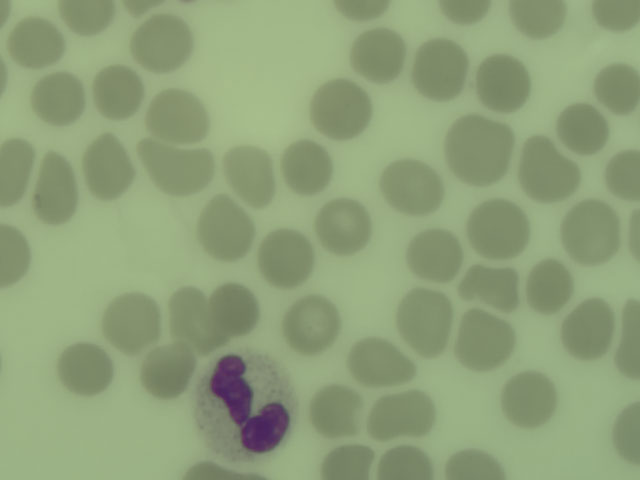RBC: (197, 356, 298, 458)
WBC: (444, 112, 513, 183), (134, 136, 216, 194), (468, 200, 532, 262), (223, 144, 282, 209), (457, 306, 518, 368), (309, 79, 370, 137), (521, 139, 576, 198), (347, 338, 414, 386), (199, 198, 249, 262), (34, 149, 77, 221), (168, 289, 220, 344), (414, 40, 462, 99), (81, 138, 129, 197), (371, 390, 435, 434), (400, 289, 449, 346), (133, 17, 191, 65), (555, 101, 608, 153), (104, 294, 158, 345), (282, 138, 333, 191), (34, 74, 86, 121), (9, 20, 61, 67), (588, 65, 640, 112), (564, 208, 616, 255), (520, 261, 572, 308), (499, 373, 551, 420), (284, 299, 336, 346), (459, 255, 511, 302), (412, 229, 464, 276), (477, 58, 529, 105), (381, 161, 433, 208), (351, 27, 403, 74), (320, 201, 372, 248), (59, 346, 111, 393), (142, 345, 194, 392), (211, 284, 263, 331), (258, 231, 310, 278), (149, 91, 201, 138), (564, 303, 616, 350), (90, 67, 142, 114), (512, 1, 564, 47), (312, 390, 361, 436), (319, 440, 375, 479), (443, 449, 507, 479), (56, 1, 116, 32), (1, 144, 31, 206), (179, 459, 267, 480), (1, 221, 30, 283), (381, 444, 432, 479), (588, 1, 640, 29), (617, 407, 640, 460), (442, 1, 493, 24), (337, 1, 384, 19)
